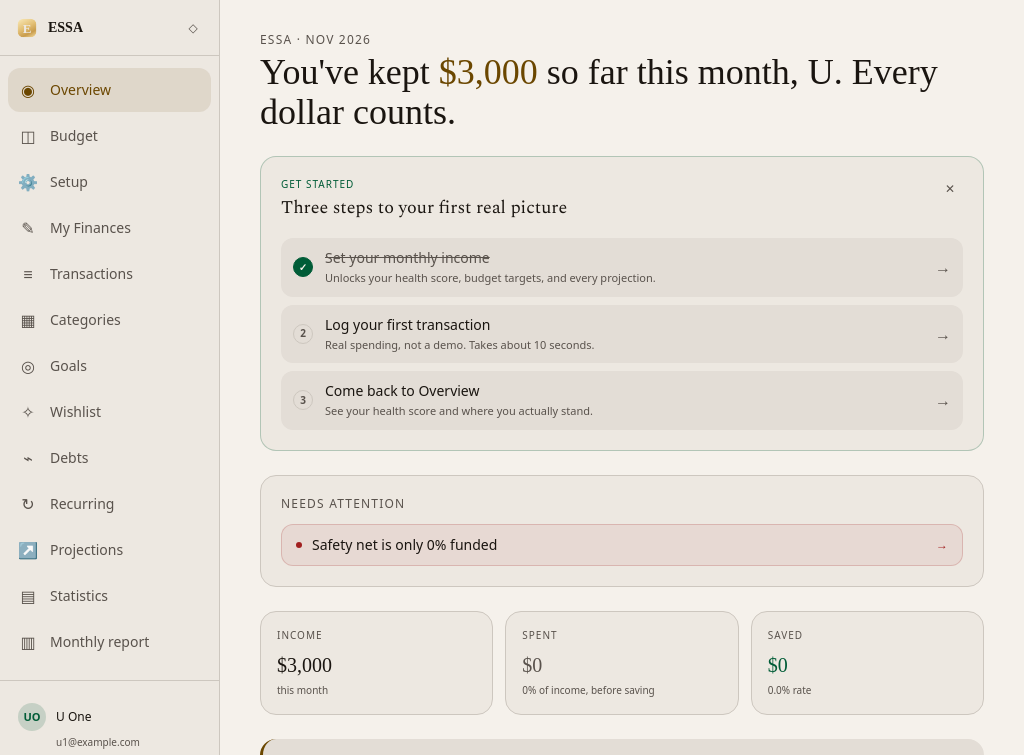
Test: R8: the failed-backup notice sits in the page flow on a phone › fixed only from md up, and before the screen's content in the page
The width and height of the screenshot is (1024, 755).
expect the button "⚙ Setup" is shown: met, box [8,160,211,204]
Click the button "✧ Wishlist" at x=110, y=412, box [8,390,211,434]
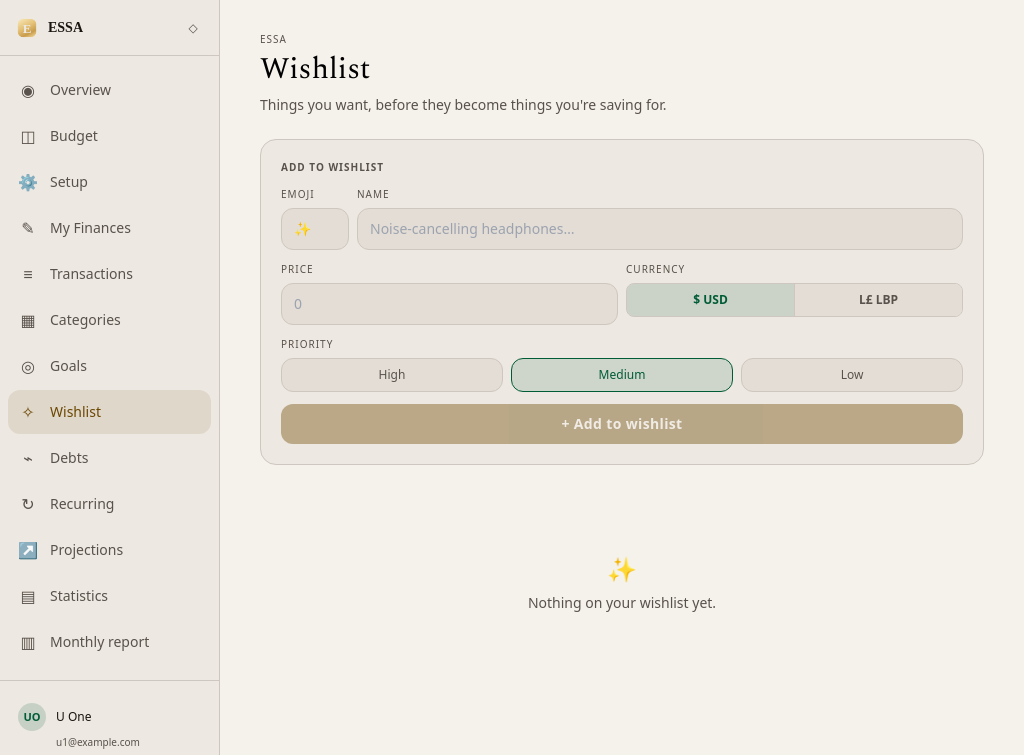
Type "Amber stool" into the field with id "wish-name" at x=660, y=229, box [357,208,963,250]
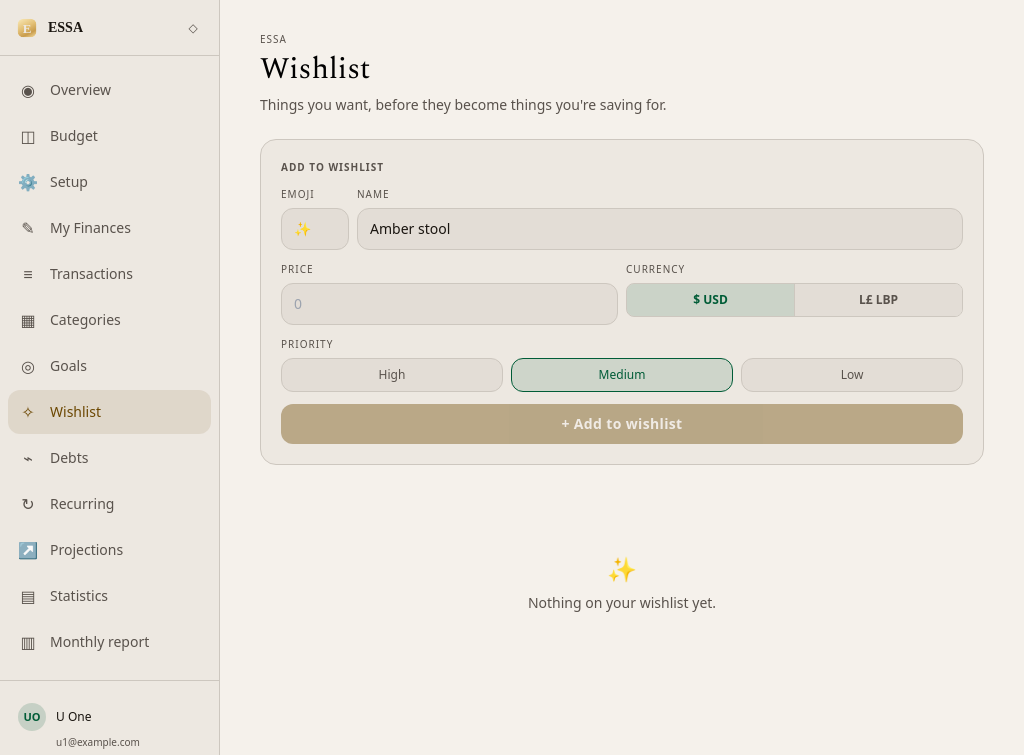
Type "22.15" into the field with id "wish-price" at x=450, y=304, box [281,283,618,325]
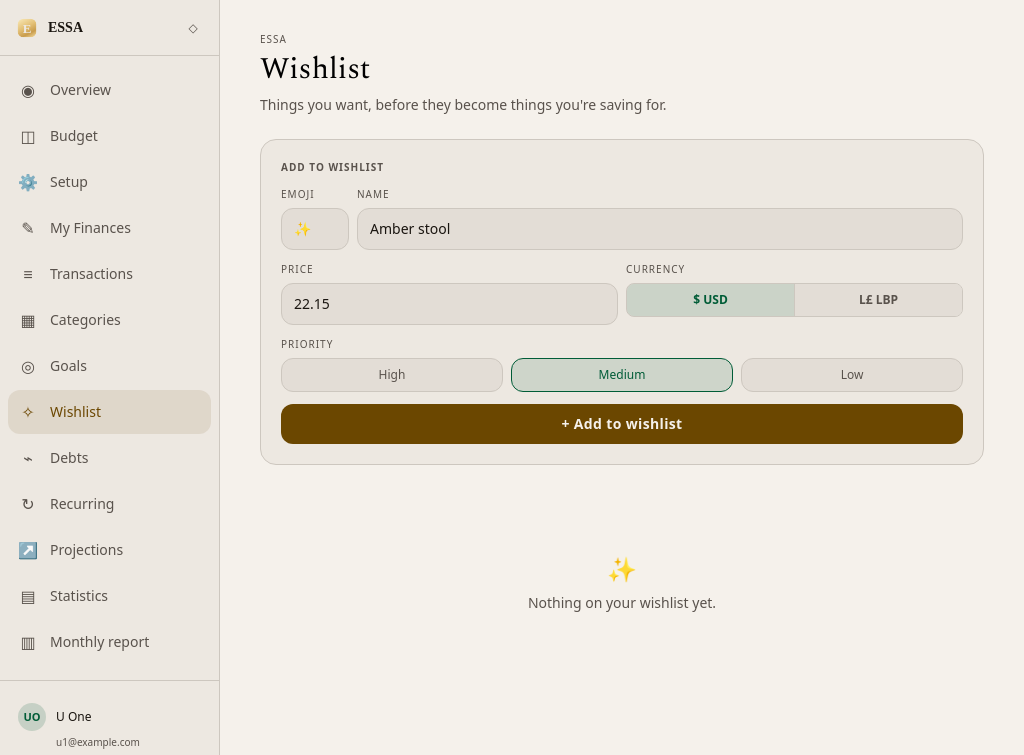
Click the button "+ Add to wishlist" at x=622, y=424, box [281,404,963,444]
Wait 3000 ms
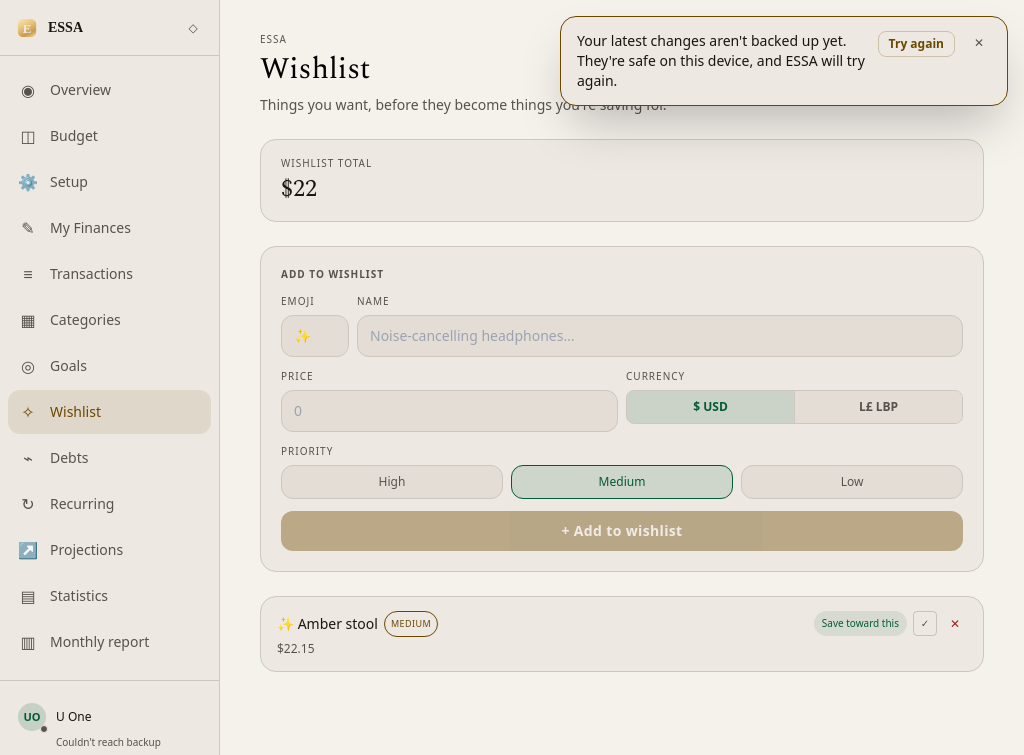
expect the message is shown: met, box [560,16,1008,106]
